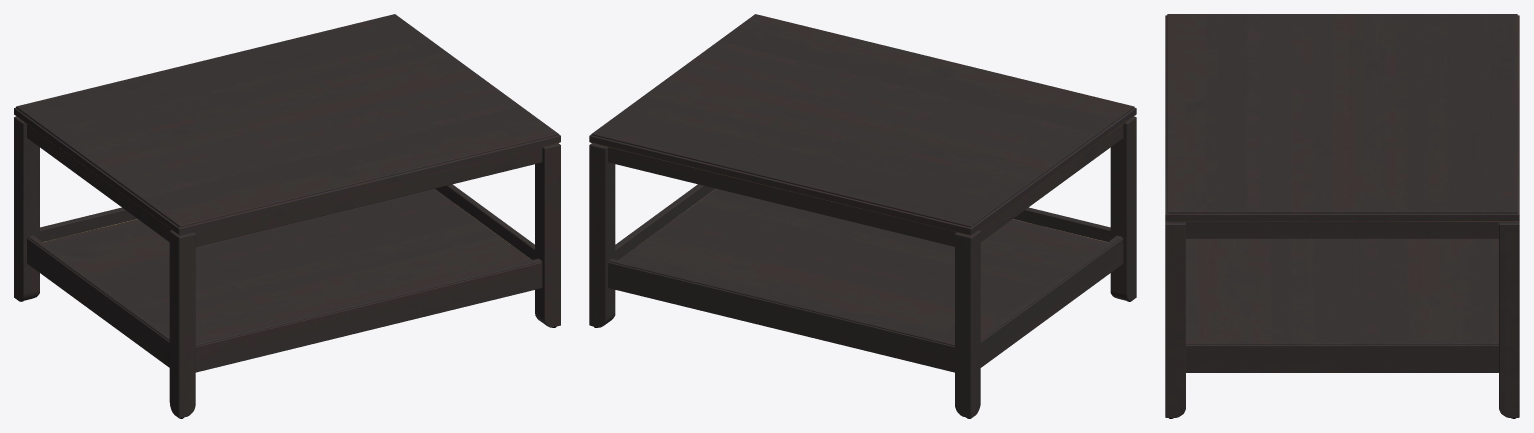
The picture shows the model from 3 angles, left to right: view 1: azimuth 30°, elevation 25°; view 2: azimuth 150°, elevation 25°; view 3: azimuth 270°, elevation 25°; orthographic projection. The views are drawn at different scales.
Visible parts, largest first — view 1: model; view 2: model; view 3: model.
Part boxes in pixels (left/top/right/bottom): model: left=14, top=14, right=560, bottom=418; model: left=589, top=14, right=1136, bottom=418; model: left=1165, top=14, right=1519, bottom=418.
Size of the model in its own units: 1 by 0.4851 by 0.7499.
Materials: 1 (1 with a texture image).
